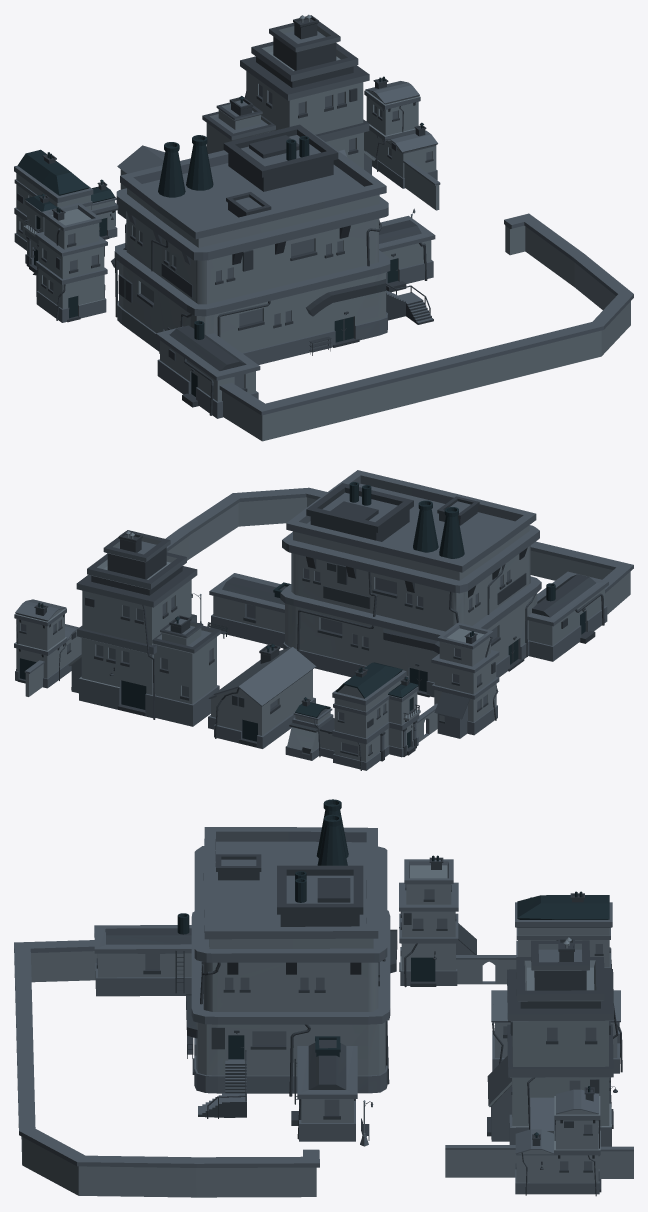
The model's file is buildings.fbx.
3 views of the same model, one above another, from view 1: azimuth 30°, elevation 25°; view 2: azimuth 150°, elevation 25°; view 3: azimuth 270°, elevation 25° (orthographic). The views are drawn at different scales.
Visible parts, largest first — view 1: block3, building5_1, building4_2_2, building1_2, building2_2, sideblock1_1_2; view 2: block3, building5_1, building2_2, sideblock1_1_2, building4_2_2, building1_2; view 3: block3, building5_1, building1_2, building4_2_2, building2_2, sideblock1_1_2.
Part boxes in pixels (<box>): block3: <box>111,124,633,441</box>; building5_1: <box>202,14,375,174</box>; building4_2_2: <box>33,202,107,322</box>; building1_2: <box>364,76,440,210</box>; building2_2: <box>14,149,118,272</box>; sideblock1_1_2: <box>117,145,164,218</box>; block3: <box>165,470,633,697</box>; building5_1: <box>68,530,220,726</box>; building2_2: <box>285,662,437,770</box>; sideblock1_1_2: <box>208,644,316,748</box>; building4_2_2: <box>431,622,499,738</box>; building1_2: <box>14,599,81,696</box>; block3: <box>14,799,397,1197</box>; building5_1: <box>487,937,618,1146</box>; building1_2: <box>445,1086,633,1196</box>; building4_2_2: <box>399,855,476,987</box>; building2_2: <box>456,891,619,1030</box>; sideblock1_1_2: <box>491,990,622,1073</box>.
Size of the model in its own units: 53.99 by 21.86 by 59.63.
